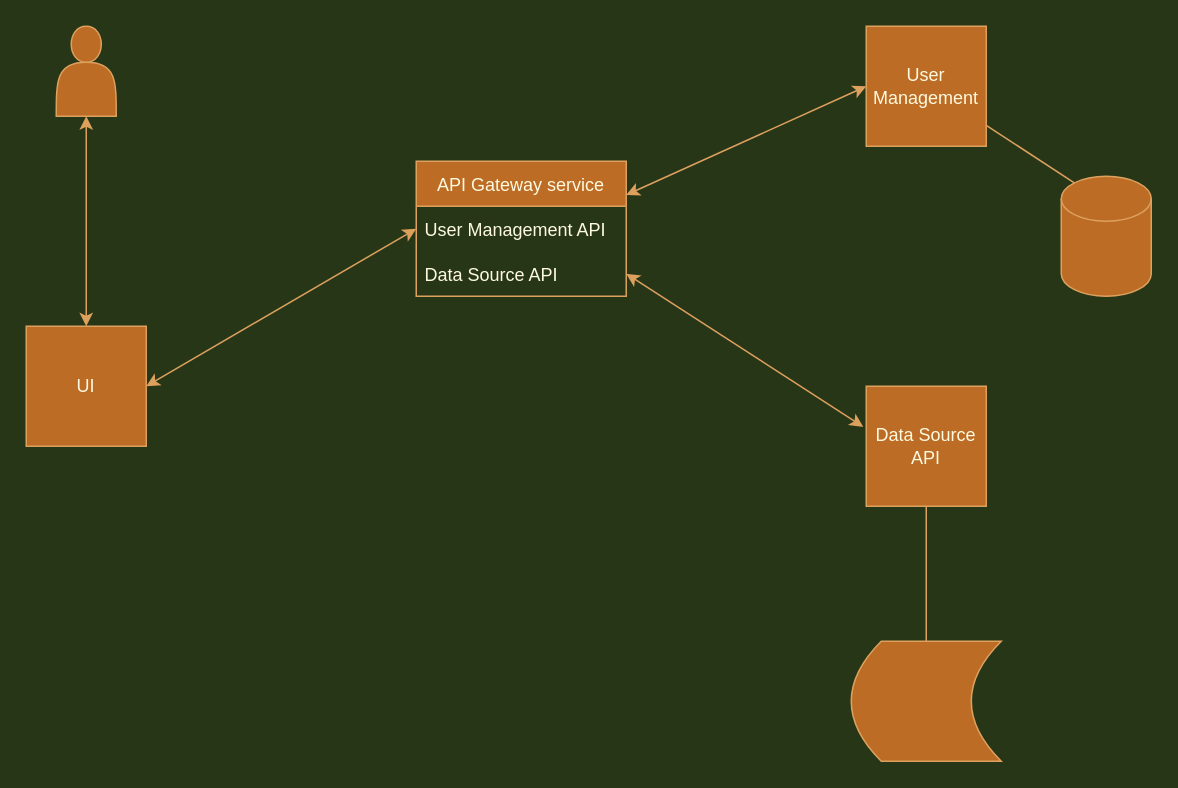
This 1178x788 diagram has some shape labels left out. Each missing label, with the centre of its shape:
NEXRAD AWS S3 Storage: the point at 925,700
Storage: the point at 1105,235
